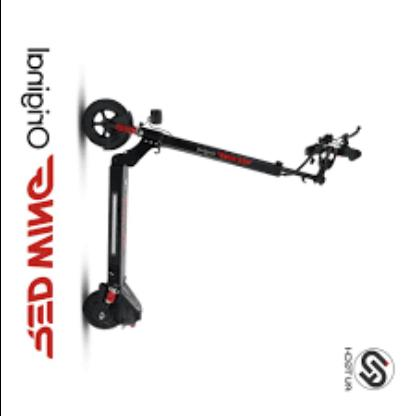bike: (81, 99, 373, 332)
